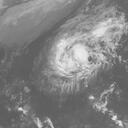cyclone: (47, 37, 102, 82)
